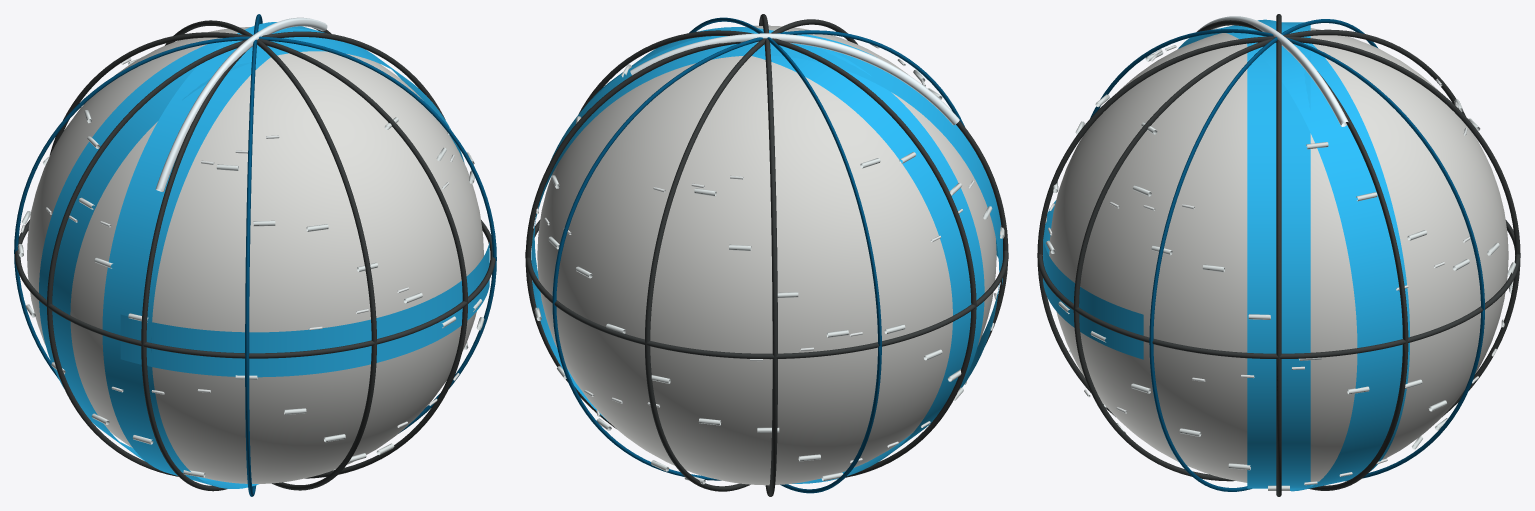
The model's file is Volleyball_3D_v2.glb.
3 views of the same model, side by side, from view 1: azimuth 30°, elevation 25°; view 2: azimuth 150°, elevation 25°; view 3: azimuth 270°, elevation 25° (orthographic).
Parts seen in each view (by area): view 1: Volleyball_3D_v2__web_slightly_glossy_white_volleyball_leath, Volleyball_3D_v2__web_glossy_sky_blue_volleyball_curved_pane, Volleyball_3D_v2__web_thin_dark_recessed_volleyball_panel_se, Volleyball_3D_v2__web_v2_extra_thin_blue_volleyball_panel_ed, Volleyball_3D_v2__web_subtle_raised_volleyball_leather_grain, Volleyball_3D_v2__web_soft_pale_highlight_on_volleyball_pane, Volleyball_3D_v2__web_v2_extra_subtle_volleyball_leather_gra; view 2: Volleyball_3D_v2__web_slightly_glossy_white_volleyball_leath, Volleyball_3D_v2__web_glossy_sky_blue_volleyball_curved_pane, Volleyball_3D_v2__web_thin_dark_recessed_volleyball_panel_se, Volleyball_3D_v2__web_v2_extra_thin_blue_volleyball_panel_ed, Volleyball_3D_v2__web_subtle_raised_volleyball_leather_grain, Volleyball_3D_v2__web_soft_pale_highlight_on_volleyball_pane, Volleyball_3D_v2__web_v2_extra_subtle_volleyball_leather_gra; view 3: Volleyball_3D_v2__web_slightly_glossy_white_volleyball_leath, Volleyball_3D_v2__web_glossy_sky_blue_volleyball_curved_pane, Volleyball_3D_v2__web_thin_dark_recessed_volleyball_panel_se, Volleyball_3D_v2__web_v2_extra_thin_blue_volleyball_panel_ed, Volleyball_3D_v2__web_subtle_raised_volleyball_leather_grain, Volleyball_3D_v2__web_soft_pale_highlight_on_volleyball_pane, Volleyball_3D_v2__web_v2_extra_subtle_volleyball_leather_gra.
Boxes of the visible parts, left/top/right/bottom form: Volleyball_3D_v2__web_slightly_glossy_white_volleyball_leath: left=27, top=27, right=483, bottom=483; Volleyball_3D_v2__web_glossy_sky_blue_volleyball_curved_pane: left=39, top=22, right=489, bottom=488; Volleyball_3D_v2__web_thin_dark_recessed_volleyball_panel_se: left=15, top=20, right=495, bottom=491; Volleyball_3D_v2__web_v2_extra_thin_blue_volleyball_panel_ed: left=14, top=14, right=496, bottom=496; Volleyball_3D_v2__web_subtle_raised_volleyball_leather_grain: left=17, top=58, right=484, bottom=477; Volleyball_3D_v2__web_soft_pale_highlight_on_volleyball_pane: left=155, top=17, right=327, bottom=191; Volleyball_3D_v2__web_v2_extra_subtle_volleyball_leather_gra: left=20, top=56, right=459, bottom=427; Volleyball_3D_v2__web_slightly_glossy_white_volleyball_leath: left=537, top=25, right=996, bottom=485; Volleyball_3D_v2__web_glossy_sky_blue_volleyball_curved_pane: left=531, top=27, right=1002, bottom=483; Volleyball_3D_v2__web_thin_dark_recessed_volleyball_panel_se: left=525, top=14, right=1008, bottom=496; Volleyball_3D_v2__web_v2_extra_thin_blue_volleyball_panel_ed: left=552, top=17, right=964, bottom=493; Volleyball_3D_v2__web_subtle_raised_volleyball_leather_grain: left=534, top=25, right=1004, bottom=484; Volleyball_3D_v2__web_soft_pale_highlight_on_volleyball_pane: left=630, top=33, right=959, bottom=125; Volleyball_3D_v2__web_v2_extra_subtle_volleyball_leather_gra: left=536, top=44, right=996, bottom=463; Volleyball_3D_v2__web_slightly_glossy_white_volleyball_leath: left=1049, top=28, right=1508, bottom=482; Volleyball_3D_v2__web_glossy_sky_blue_volleyball_curved_pane: left=1043, top=19, right=1409, bottom=491; Volleyball_3D_v2__web_thin_dark_recessed_volleyball_panel_se: left=1037, top=14, right=1520, bottom=496; Volleyball_3D_v2__web_v2_extra_thin_blue_volleyball_panel_ed: left=1090, top=19, right=1484, bottom=491; Volleyball_3D_v2__web_subtle_raised_volleyball_leather_grain: left=1046, top=51, right=1515, bottom=490; Volleyball_3D_v2__web_soft_pale_highlight_on_volleyball_pane: left=1197, top=16, right=1348, bottom=126; Volleyball_3D_v2__web_v2_extra_subtle_volleyball_leather_gra: left=1045, top=45, right=1504, bottom=485.
Size of the model in its own units: 0.2209 by 0.2227 by 0.2209.
